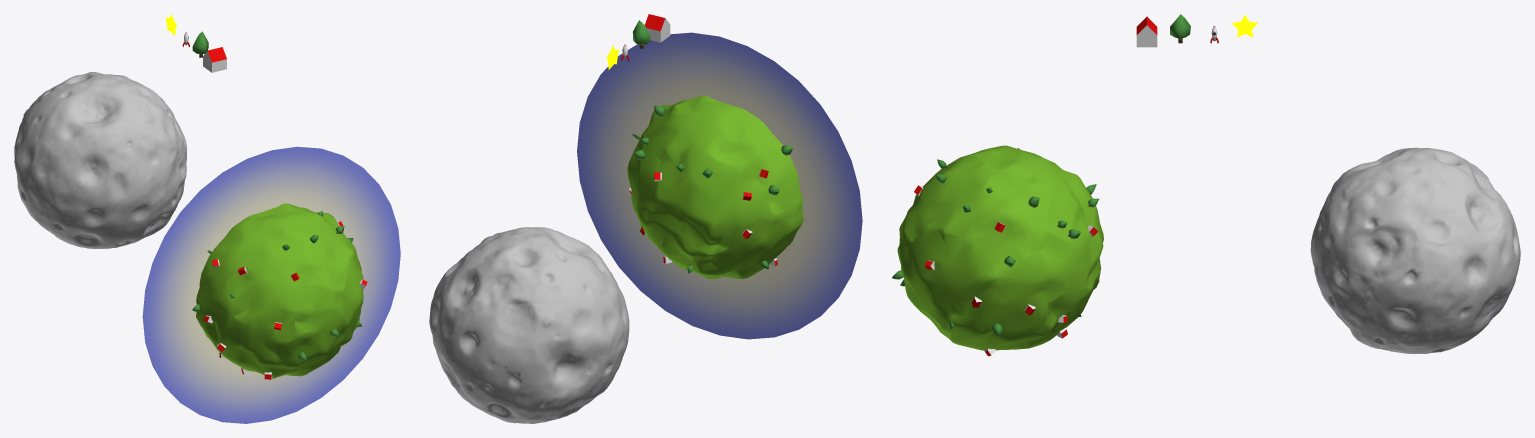
File: assets.glb
3 views of the same model, side by side, from view 1: azimuth 30°, elevation 25°; view 2: azimuth 150°, elevation 25°; view 3: azimuth 270°, elevation 25° (orthographic). The views are drawn at different scales.
Visible parts, largest first — view 1: atmosphere, satellite, planet, house; view 2: atmosphere, satellite, planet, house; view 3: satellite, planet.
Boxes of the visible parts, x1,y1,x2,y2 form: atmosphere: (142,146,400,423); satellite: (14,72,186,248); planet: (196,203,363,378); house: (203,47,226,72); atmosphere: (577,32,862,339); satellite: (429,227,629,423); planet: (627,95,803,279); house: (645,14,670,42); satellite: (1310,147,1520,354); planet: (897,145,1103,350).
Bounding box in the file's own units: 3.44 × 4.29 × 6.19.
Materials: 12 (2 with a texture image).
